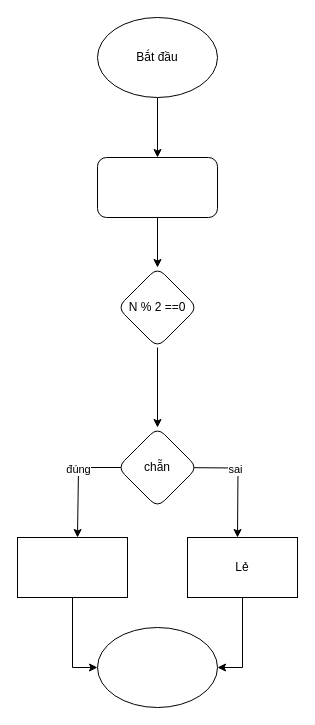
Image size: 315x725. Some labels were removed from this diagram. Each missing label, with the box of its shape:
LoF: (16, 536, 128, 598)
Nhập N: (96, 156, 218, 218)
